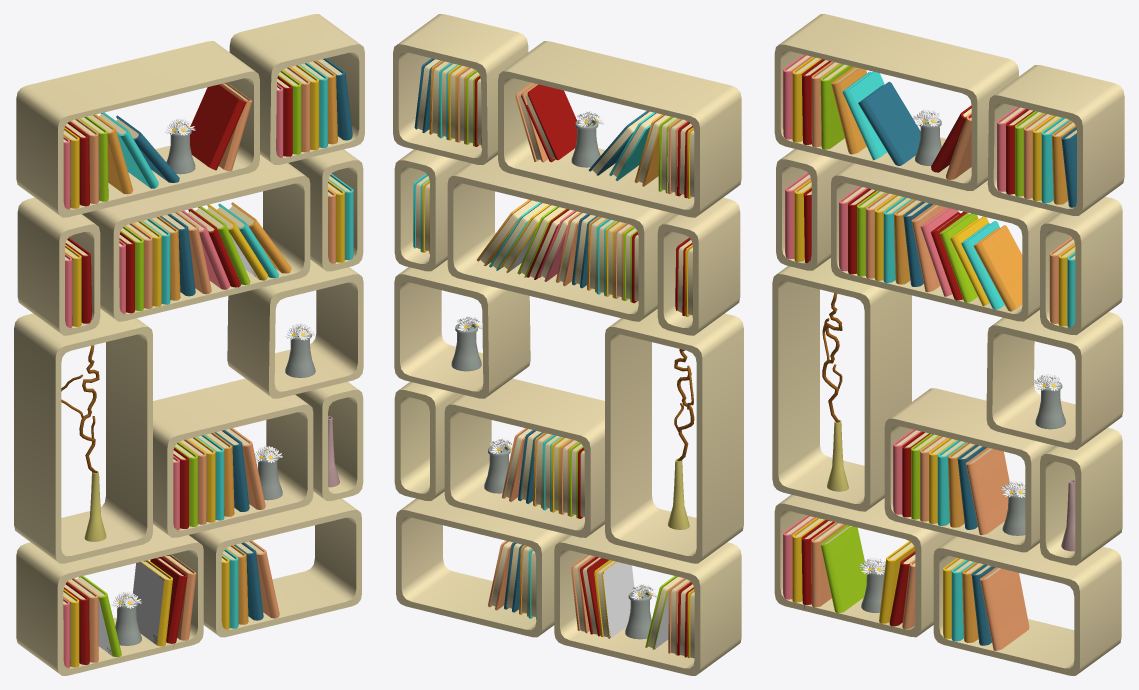
File: Modular_Book_Shelf.FBX
3 renders of one model, left to right at view 1: azimuth 30°, elevation 25°; view 2: azimuth 150°, elevation 25°; view 3: azimuth 330°, elevation 25°, orthographic.
Parts seen in each view (by area): view 1: Modular_Book_Shelf; view 2: Modular_Book_Shelf; view 3: Modular_Book_Shelf.
Boxes of the visible parts, x1,y1,x2,y2 form: Modular_Book_Shelf: [14, 14, 364, 675]; Modular_Book_Shelf: [393, 14, 743, 675]; Modular_Book_Shelf: [772, 14, 1124, 675].
Bounding box in the file's own units: 98.36 × 170 × 22.84.
1 material, 1 textured.
